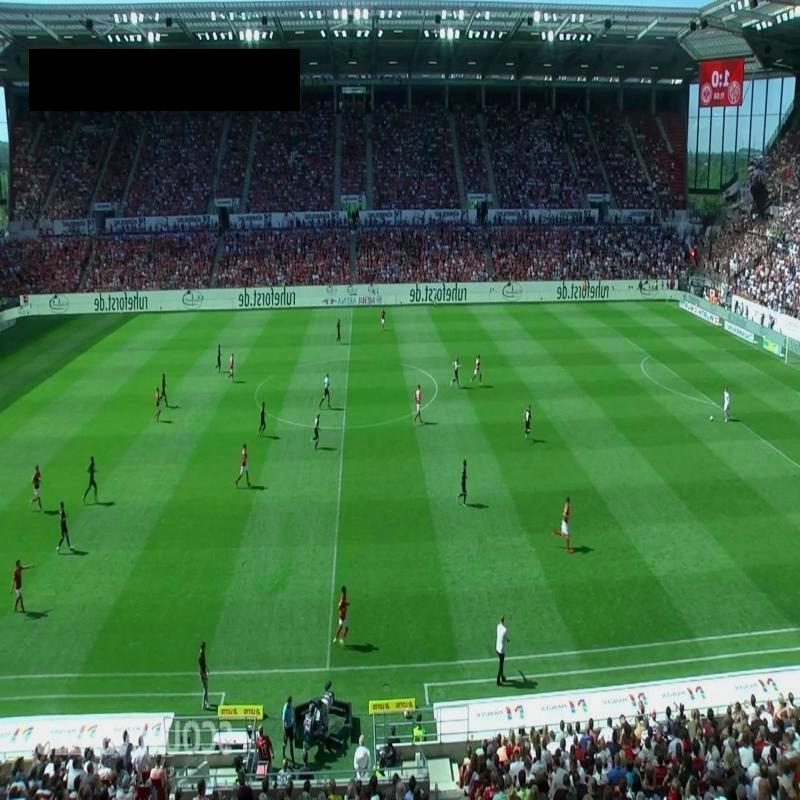1: (22, 312, 36, 326), (660, 297, 673, 310)
10: (642, 348, 656, 362)
11: (707, 397, 722, 411)
13: (346, 303, 360, 317)
14: (342, 352, 356, 366)
15: (337, 420, 351, 435)
16: (322, 660, 336, 676)
2: (705, 319, 719, 333)
3: (750, 342, 764, 356)
7: (715, 343, 730, 357)
9: (602, 320, 616, 334)
c: (431, 378, 443, 393), (249, 388, 262, 401)
